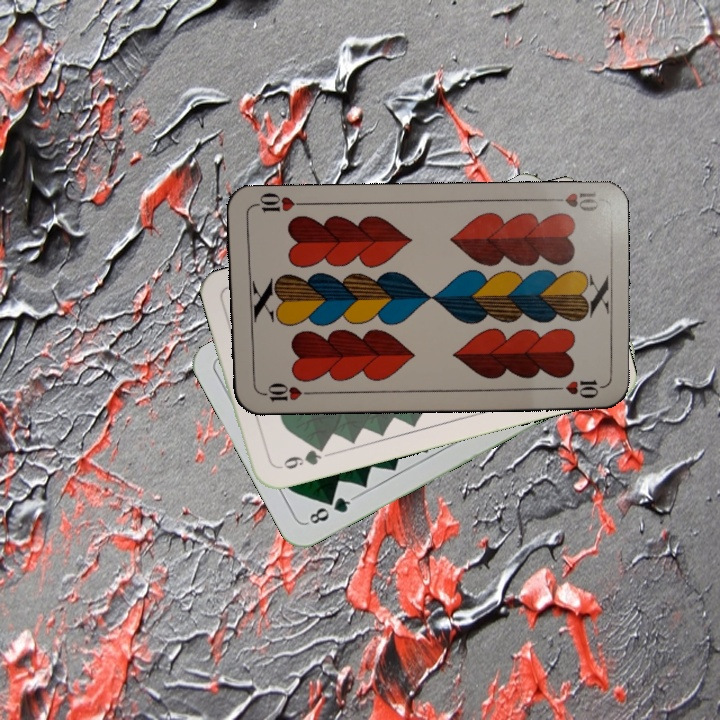G8: (303, 492, 357, 527)
G9: (272, 441, 328, 472)
H10: (255, 378, 314, 405), (542, 188, 602, 214)
